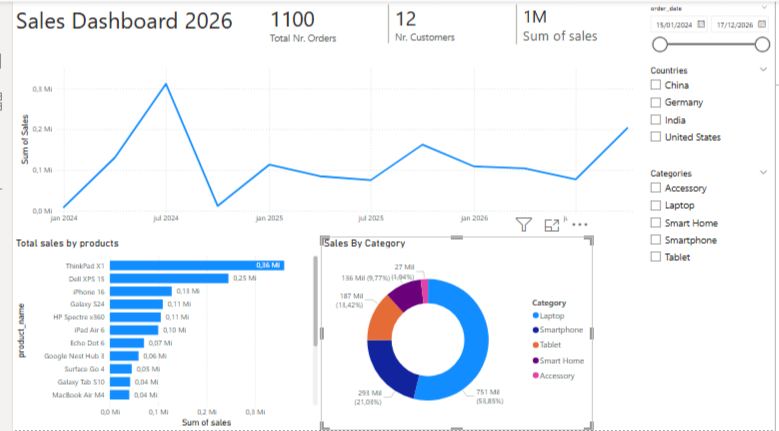

This screenshot's page, from the dashboard's own definition file:
{"tool":"powerbi","page":{"name":"Página 1","canvas":[1280,720],"ordinal":0},"visuals":[{"type":"barChart","title":"Total sales by products","fields":{"Category":["orders.product_name"],"Y":["Sum(orders.sales)"]},"box":[0,394.8,517.4,325.9],"z":0},{"type":"donutChart","title":" Sales By Category","fields":{"Y":["Sum(orders.sales)"],"Category":["orders.product_category"]},"box":[517.4,394.8,456.9,325.9],"z":1000},{"type":"multiRowCard","fields":{"Values":["orders.order_id"]},"box":[414.9,0,183.1,94.1],"z":2000},{"type":"multiRowCard","fields":{"Values":["orders.customer_id"]},"box":[624.9,0,194.9,94.1],"z":3000},{"type":"multiRowCard","fields":{"Values":["Sum(orders.sales)"]},"box":[839.9,0,267.1,102.5],"z":4000},{"type":"lineChart","title":"Sales Over Time","fields":{"Category":["orders.order_date.Variation.Hierarquia de datas.Ano","orders.order_date.Variation.Hierarquia de datas.Trimestre","orders.order_date.Variation.Hierarquia de datas.Mês","orders.order_date.Variation.Hierarquia de datas.Dia"],"Y":["Sum(orders.sales)"]},"box":[6.7,79,1051.5,315.8],"z":5000},{"type":"slicer","fields":{"Values":["customers.country"]},"box":[1058.3,102.5,221.7,173],"z":6000},{"type":"slicer","fields":{"Values":["orders.product_category"]},"box":[1058.3,275.5,221.7,218.4],"z":7000},{"type":"slicer","fields":{"Values":["orders.order_date"]},"box":[1058.3,0,221.7,99.1],"z":8000},{"type":"textbox","box":[0,0,426.7,102.5],"z":9000}]}

Visuals, with their boxes on the page's 1280x720 design canvas (x1, y1, x2, y2). These are canvas units, not pixel positions in the 779x431 screenshot, which may show the page scaled, cropped or inside an application window:
"Total sales by products" barChart: bbox=[0, 395, 517, 721]
" Sales By Category" donutChart: bbox=[517, 395, 974, 721]
multiRowCard - orders.order_id: bbox=[415, 0, 598, 94]
multiRowCard - orders.customer_id: bbox=[625, 0, 820, 94]
multiRowCard - Sum(orders.sales): bbox=[840, 0, 1107, 102]
"Sales Over Time" lineChart: bbox=[7, 79, 1058, 395]
slicer - customers.country: bbox=[1058, 102, 1280, 276]
slicer - orders.product_category: bbox=[1058, 276, 1280, 494]
slicer - orders.order_date: bbox=[1058, 0, 1280, 99]
textbox: bbox=[0, 0, 427, 102]
